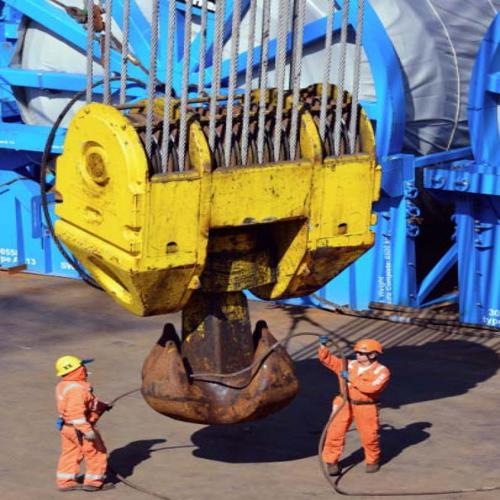con_eq: (47, 67, 382, 417)
